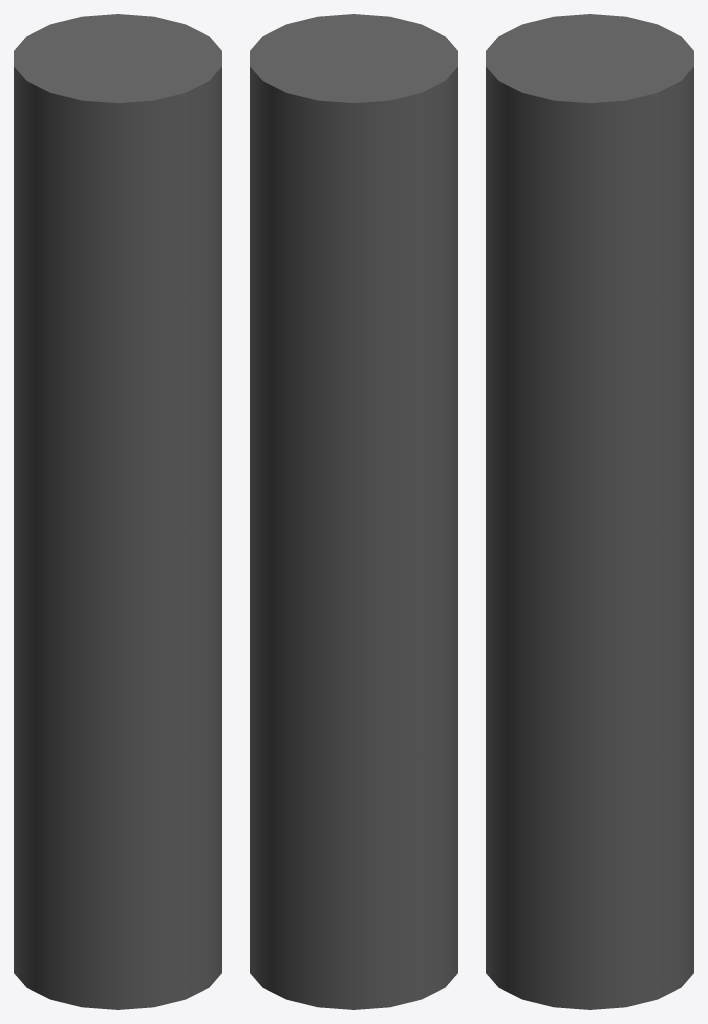
The model's file is Stick.FBX.
3 views of the same model, side by side, from view 1: azimuth 30°, elevation 25°; view 2: azimuth 150°, elevation 25°; view 3: azimuth 270°, elevation 25° (orthographic).
Visible parts, largest first — view 1: Cylinder001; view 2: Cylinder001; view 3: Cylinder001.
Boxes of the visible parts, x1,y1,x2,y2 form: Cylinder001: [14, 14, 221, 1009]; Cylinder001: [250, 14, 457, 1009]; Cylinder001: [486, 14, 693, 1009].
Bounding box in the file's own units: 16.69 × 79.1 × 16.43.
Materials: 1 (1 with a texture image).
